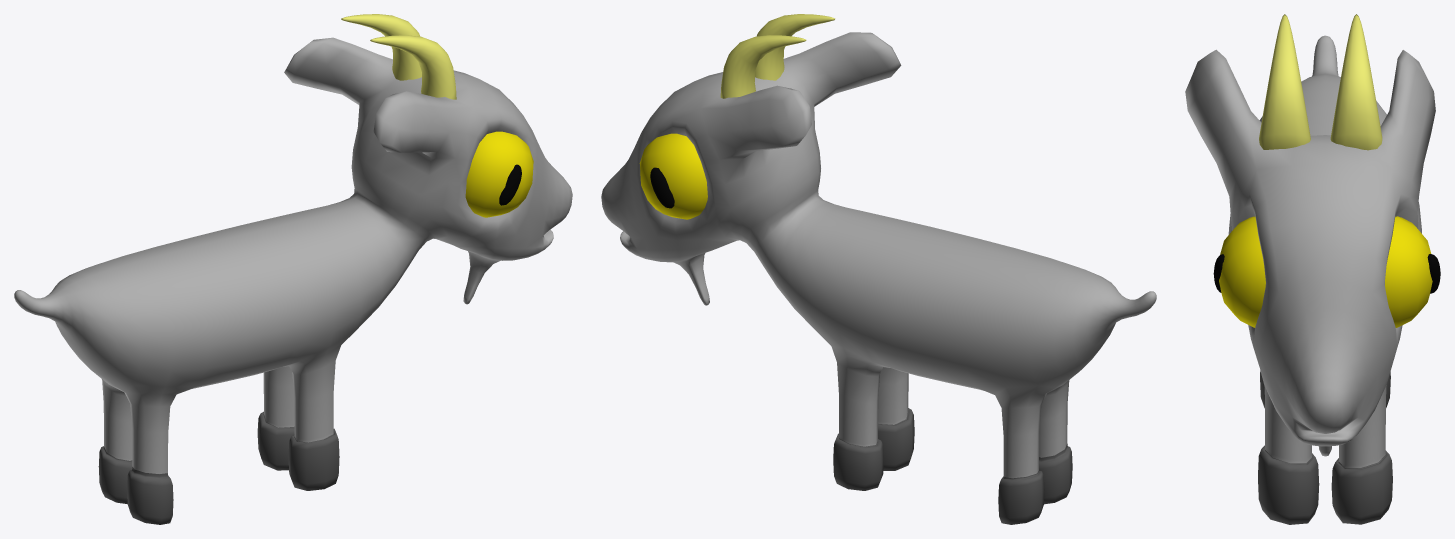
The model's file is Cabrinha.fbx.
3 views of the same model, side by side, from view 1: azimuth 30°, elevation 25°; view 2: azimuth 150°, elevation 25°; view 3: azimuth 270°, elevation 25° (orthographic). The views are drawn at different scales.
Parts seen in each view (by area): view 1: Cube, Cube.002, Cube.003, Cube.004; view 2: Cube, Cube.001, Cube.004, Cube.003; view 3: Cube, Cube.003, Cube.004, Cube.001, Cube.002, Cube.006.
Boxes of the visible parts, box(x1,y1,x2,y2) form: Cube: box(14, 37, 572, 524); Cube.002: box(465, 131, 533, 217); Cube.003: box(370, 35, 456, 99); Cube.004: box(341, 14, 421, 80); Cube: box(601, 32, 1156, 524); Cube.001: box(639, 133, 707, 219); Cube.004: box(720, 35, 806, 98); Cube.003: box(755, 14, 835, 80); Cube: box(1185, 35, 1435, 524); Cube.003: box(1259, 14, 1310, 149); Cube.004: box(1330, 14, 1382, 150); Cube.001: box(1385, 216, 1432, 327); Cube.002: box(1219, 216, 1265, 327); Cube.006: box(1427, 254, 1440, 293).
Size of the model in its own units: 724 by 541 by 234.
